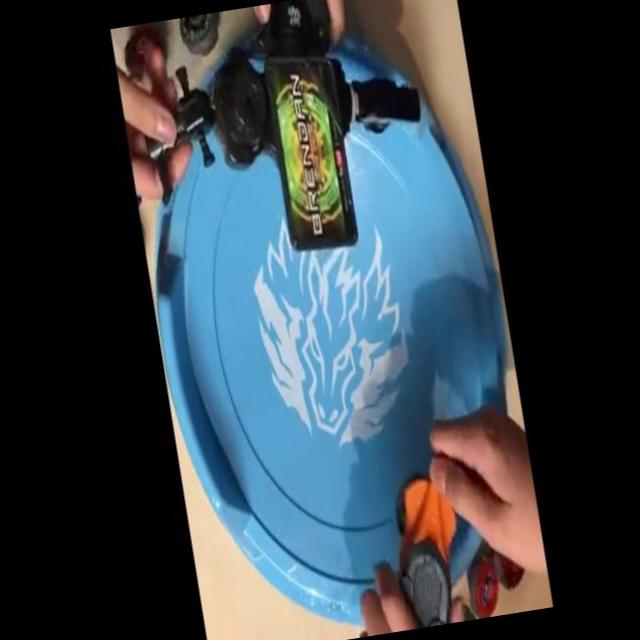Beyblade: (120, 22, 173, 88), (462, 556, 504, 620)
